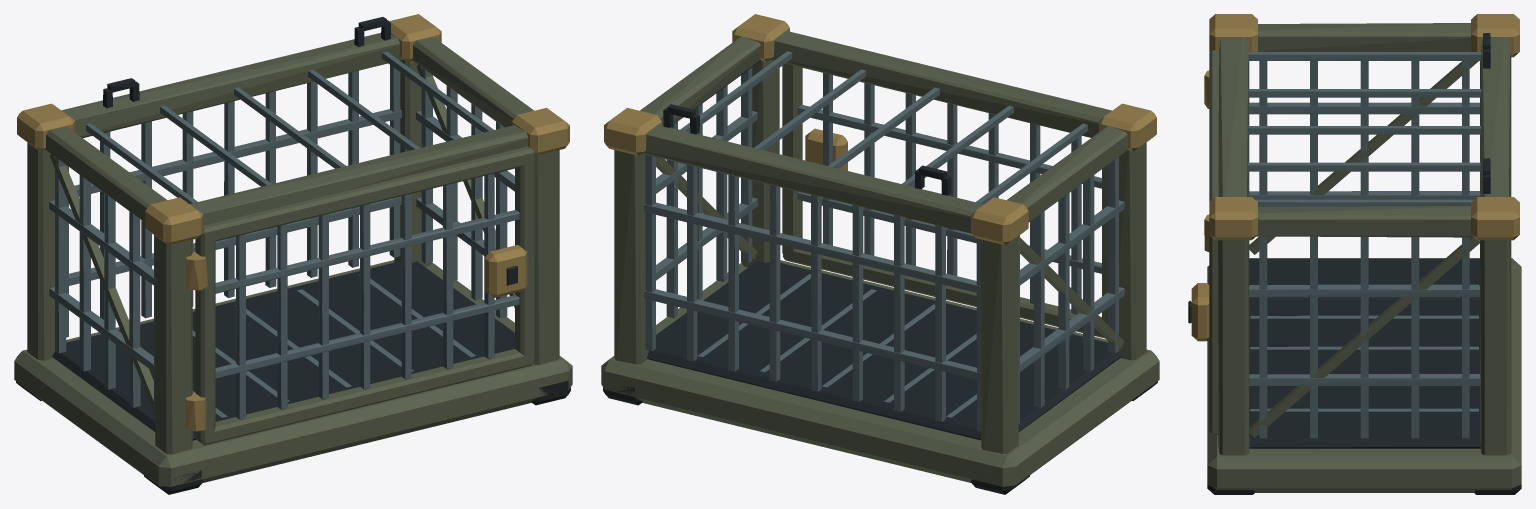
The model's file is MINER_CAGE.lo.glb.
The picture shows the model from 3 angles, left to right: view 1: azimuth 30°, elevation 25°; view 2: azimuth 150°, elevation 25°; view 3: azimuth 270°, elevation 25°; orthographic projection. The views are drawn at different scales.
Parts seen in each view (by area): view 1: Body_Mesh, DoorPivot_Mesh; view 2: Body_Mesh, DoorPivot_Mesh; view 3: Body_Mesh, DoorPivot_Mesh.
Part boxes in pixels (bbox=[...]): Body_Mesh: bbox=[14, 14, 572, 494]; DoorPivot_Mesh: bbox=[195, 146, 534, 445]; Body_Mesh: bbox=[601, 14, 1159, 494]; DoorPivot_Mesh: bbox=[782, 63, 1107, 338]; Body_Mesh: bbox=[1204, 14, 1521, 494]; DoorPivot_Mesh: bbox=[1188, 50, 1219, 434].
Bounding box in the file's own units: 2.8 × 1.9 × 1.91.
